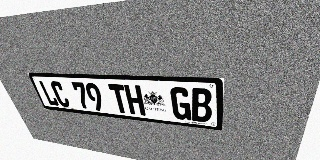7: (70, 82, 93, 110)
9: (84, 83, 106, 111)
B: (190, 88, 212, 123)
C: (49, 81, 71, 107)
G: (170, 87, 191, 121)
H: (124, 85, 146, 116)
L: (38, 80, 60, 106)
T: (108, 84, 130, 114)
